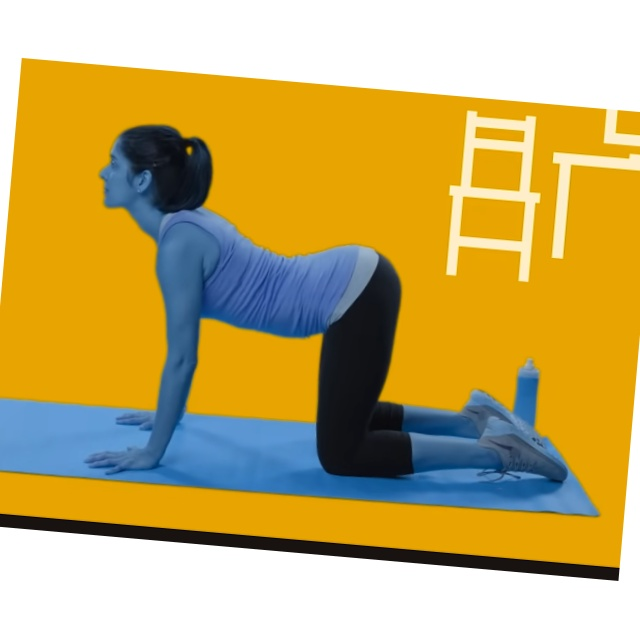Cow_Pose: (78, 121, 568, 507)
